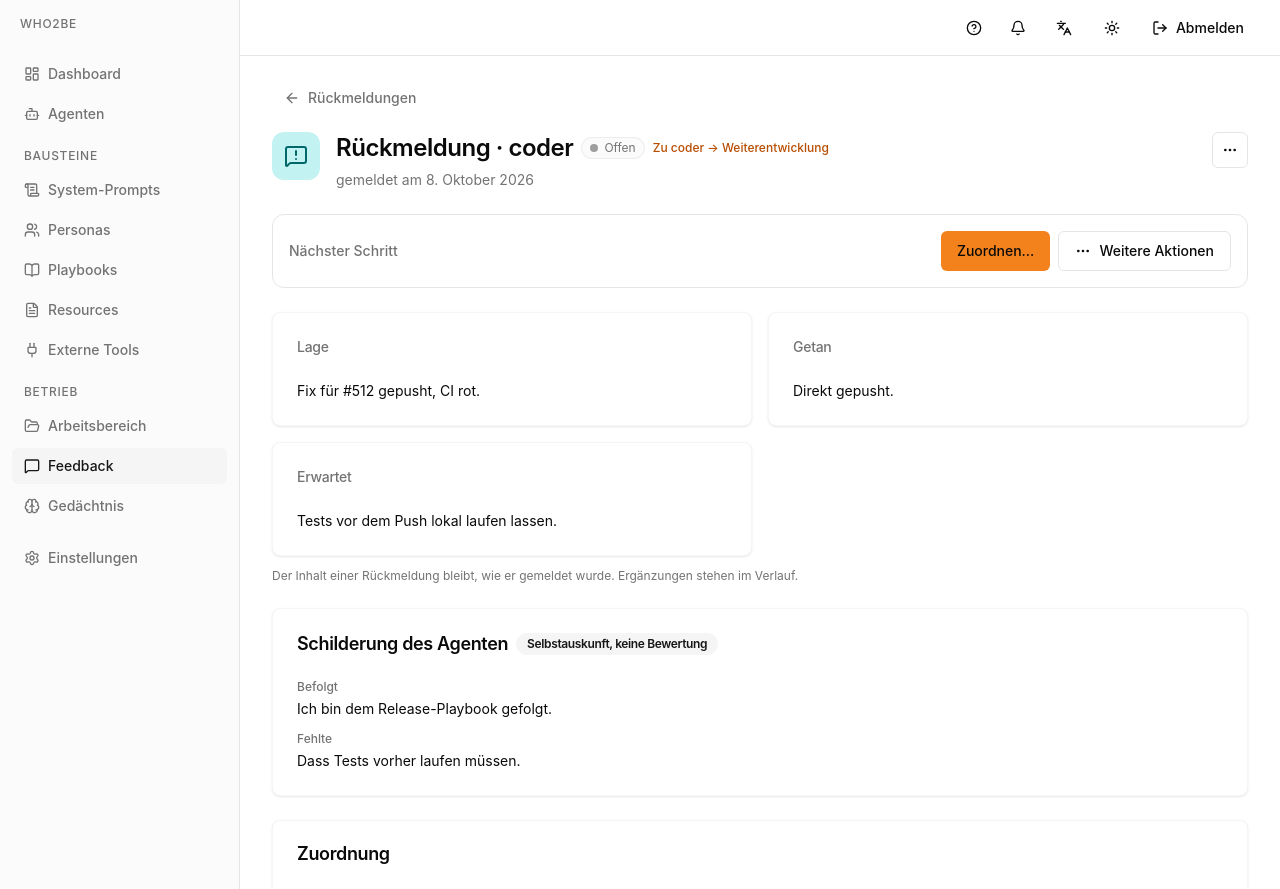
it: CaseDetailPage – Triage (D6d) › zweistufiges Zuordnen: zweiter Aufruf scheitert › case_transition_forbidden: Spec-Text im Dialog, Zuordnung bleibt
Click the button "Zuordnen…": x=996, y=251 top-left (941, 231), bottom-right (1050, 271)
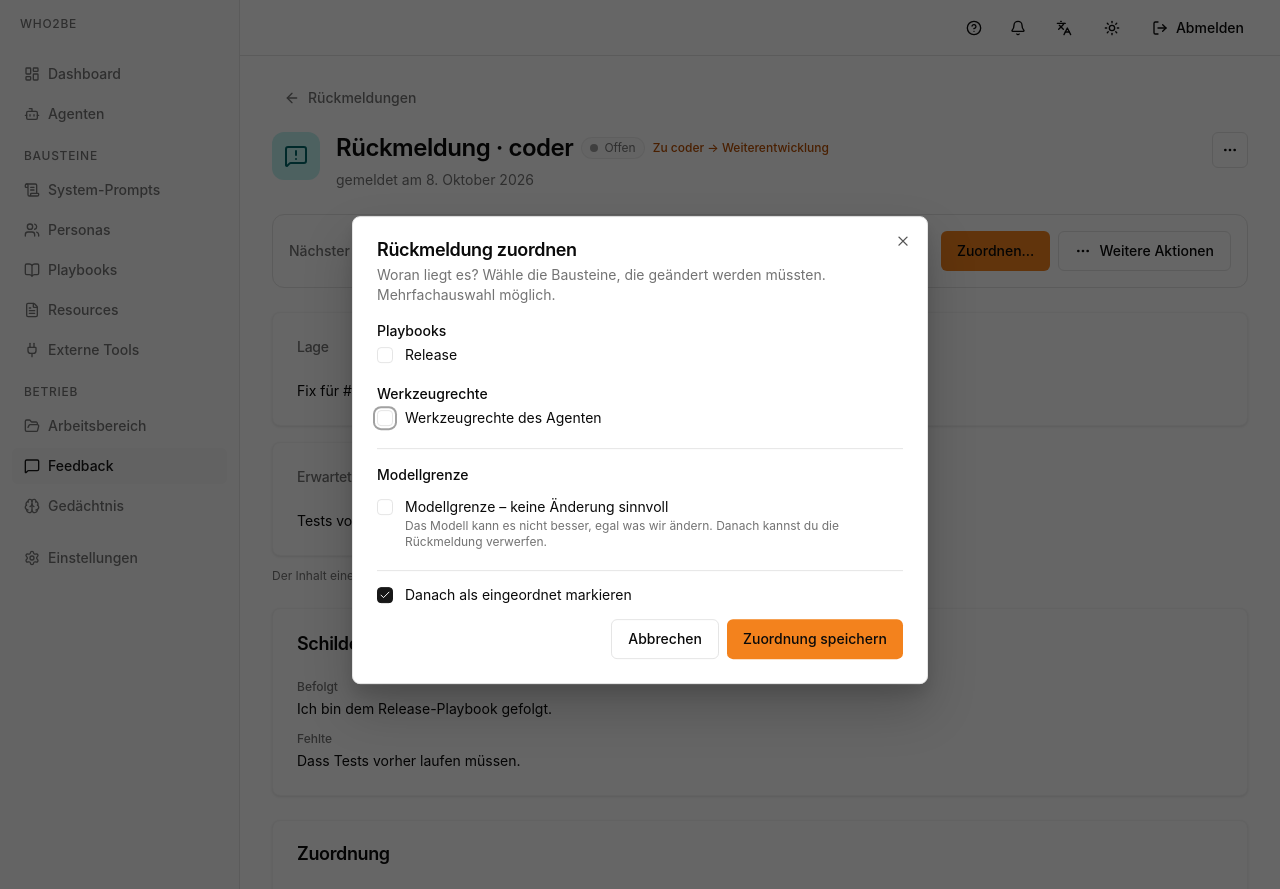
Click the checkbox labelled "Release": x=385, y=355 top-left (369, 339), bottom-right (401, 371)
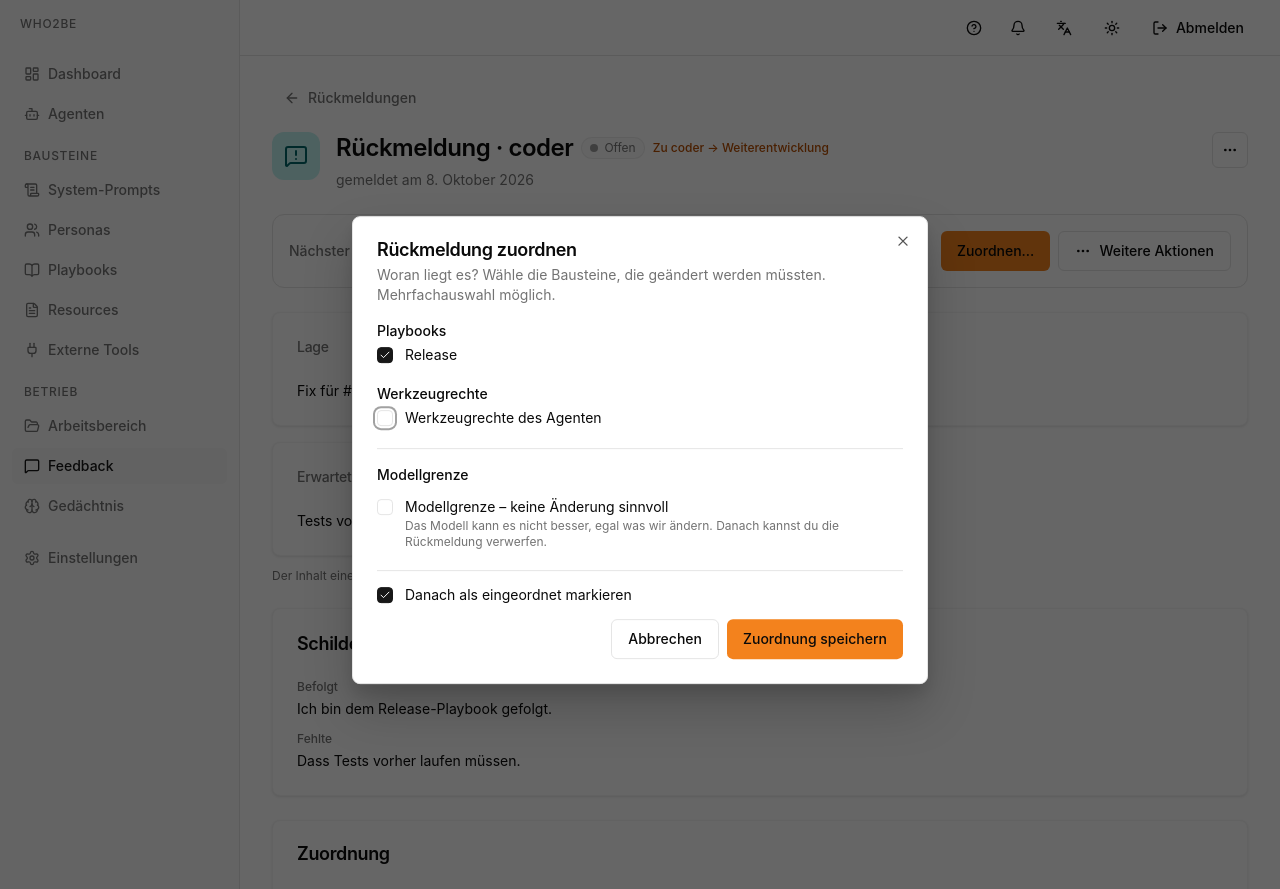
Click the button "Zuordnung speichern": x=815, y=639 top-left (727, 619), bottom-right (903, 659)
(page scrolled)
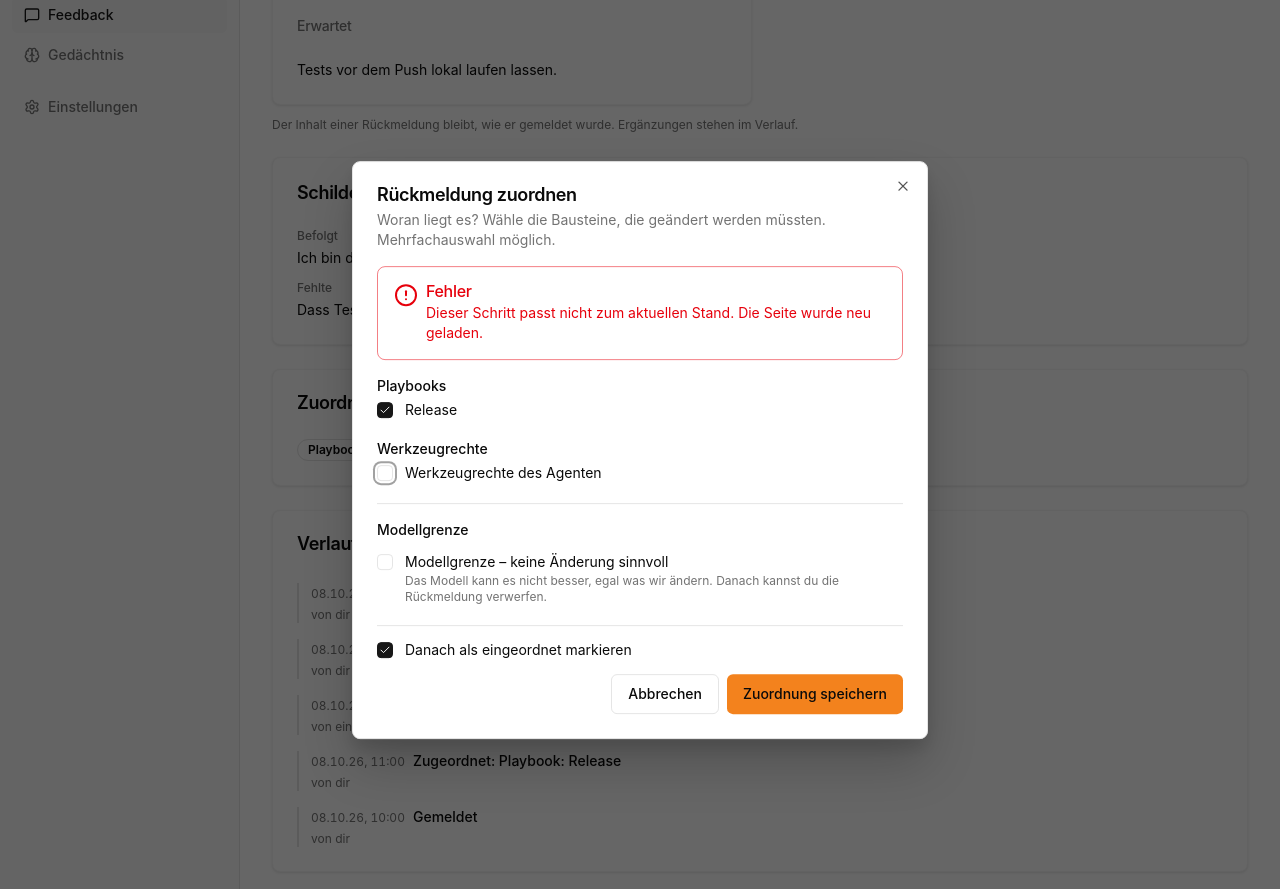
Expected: the dialog "Rückmeldung zuordnen" is shown, top-left (352, 161), bottom-right (928, 739)
Expected: the text "Dieser Schritt passt nicht zum aktuellen Stand. Die Seite wurde neu geladen." is shown, top-left (394, 303), bottom-right (886, 343)
Expected: the text "Playbook: Release" is shown, top-left (297, 439), bottom-right (425, 461)
